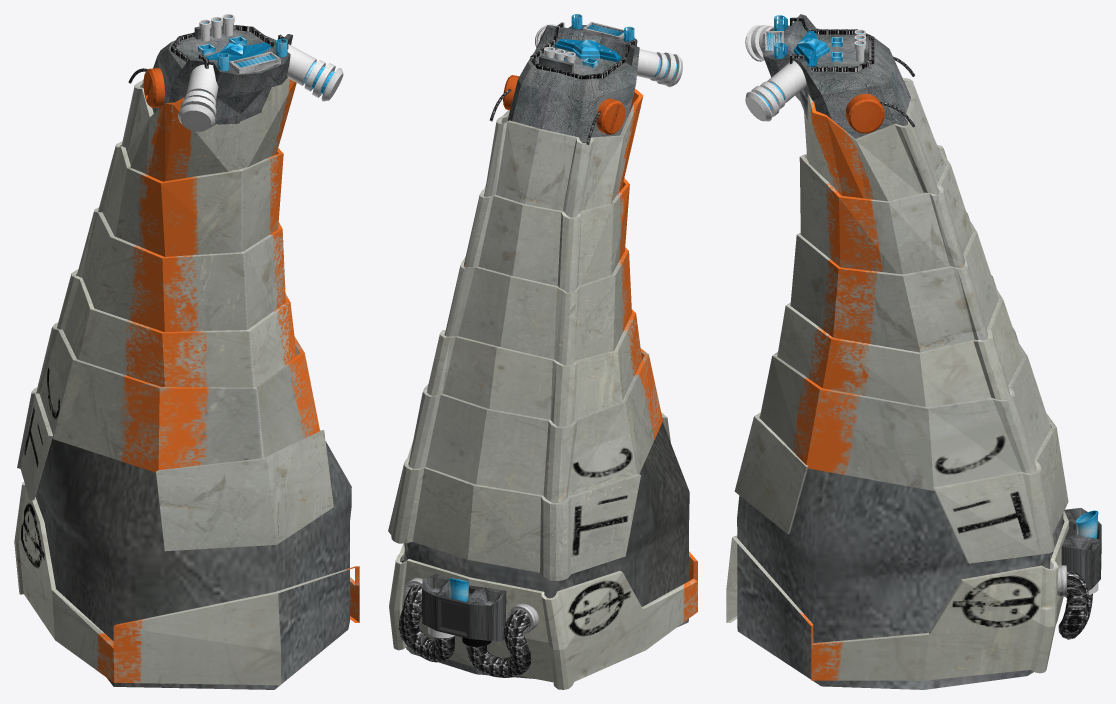
Rendered from Hiena OBJ.FBX.
The picture shows the model from 3 angles, left to right: view 1: azimuth 30°, elevation 25°; view 2: azimuth 150°, elevation 25°; view 3: azimuth 270°, elevation 25°; orthographic projection. The views are drawn at different scales.
Visible parts, largest first — view 1: Hiena; view 2: Hiena; view 3: Hiena.
Boxes of the visible parts, x1,y1,x2,y2 form: Hiena: (14,14,359,689); Hiena: (388,14,697,689); Hiena: (726,14,1101,689).
Bounding box in the file's own units: 28.29 × 67.19 × 37.96.
